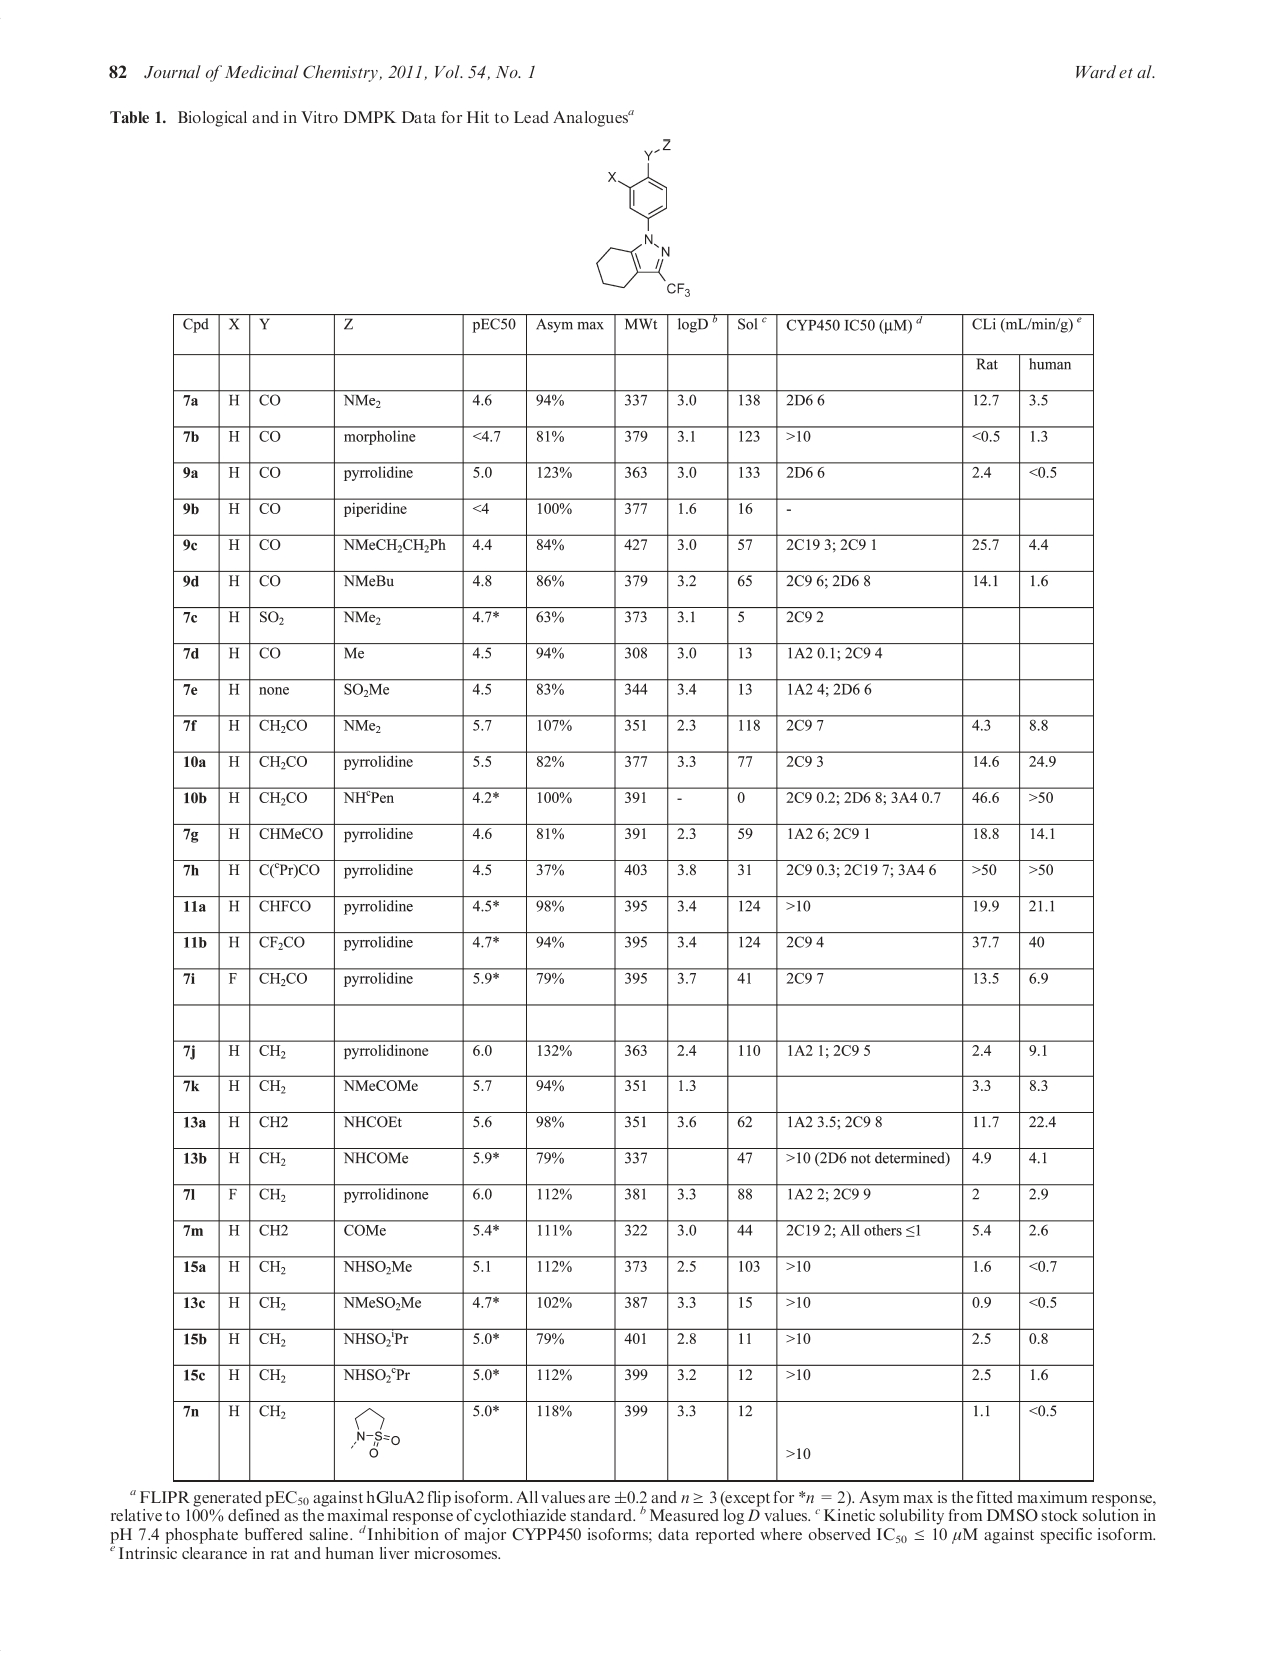exist_molecular: (593, 136, 696, 297), (347, 1404, 404, 1462)
